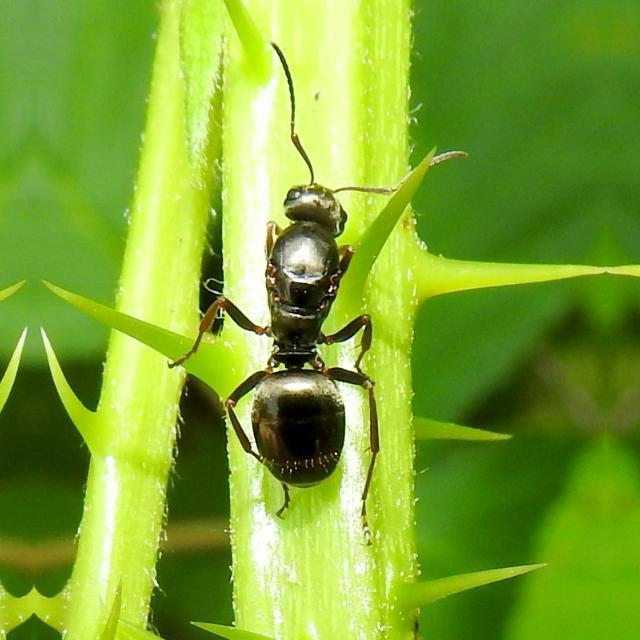Formica: (167, 132, 436, 506)
